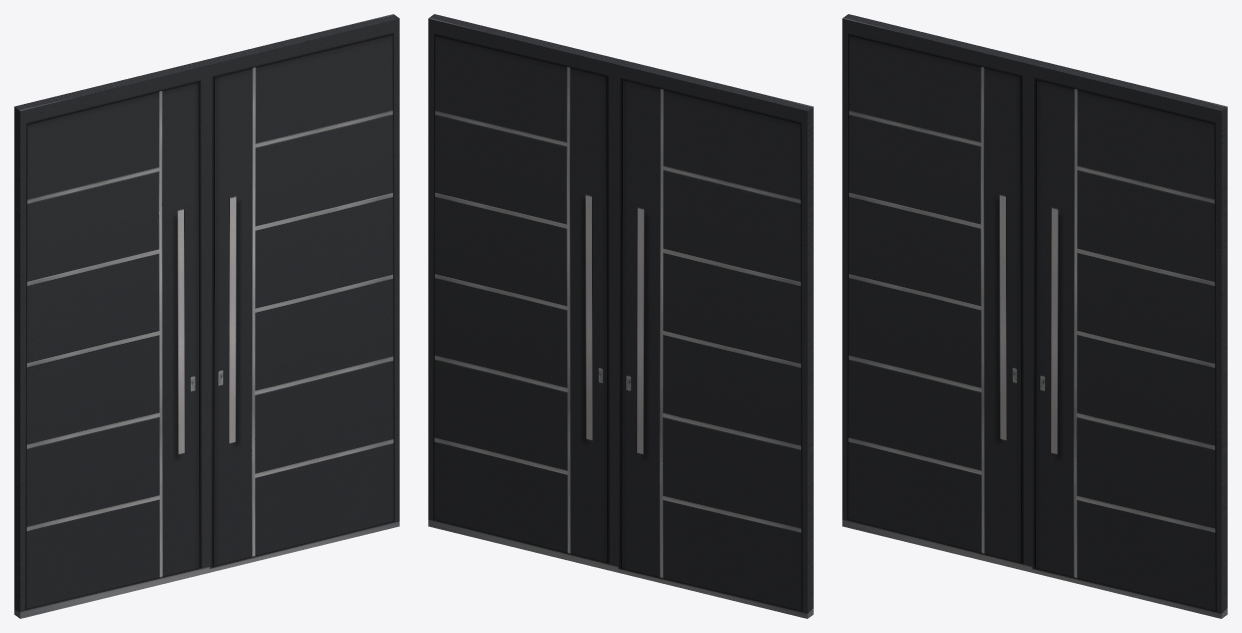
The model's file is PuertaFrente.obj.
3 renders of one model, left to right at view 1: azimuth 30°, elevation 25°; view 2: azimuth 150°, elevation 25°; view 3: azimuth 330°, elevation 25°, orthographic.
Parts seen in each view (by area): view 1: pCube1, pasted__pCube1 group1; view 2: pCube1, pasted__pCube1 group1; view 3: pasted__pCube1 group1, pCube1.
Part boxes in pixels (left/top/right/bottom): pCube1: left=14, top=60, right=210, bottom=618; pasted__pCube1 group1: left=204, top=14, right=399, bottom=572; pCube1: left=617, top=60, right=813, bottom=618; pasted__pCube1 group1: left=428, top=14, right=623, bottom=572; pasted__pCube1 group1: left=1031, top=60, right=1227, bottom=618; pCube1: left=842, top=14, right=1037, bottom=572.
Bounding box in the file's own units: 3.09 × 3.96 × 0.087.
2 materials, 2 textured.
